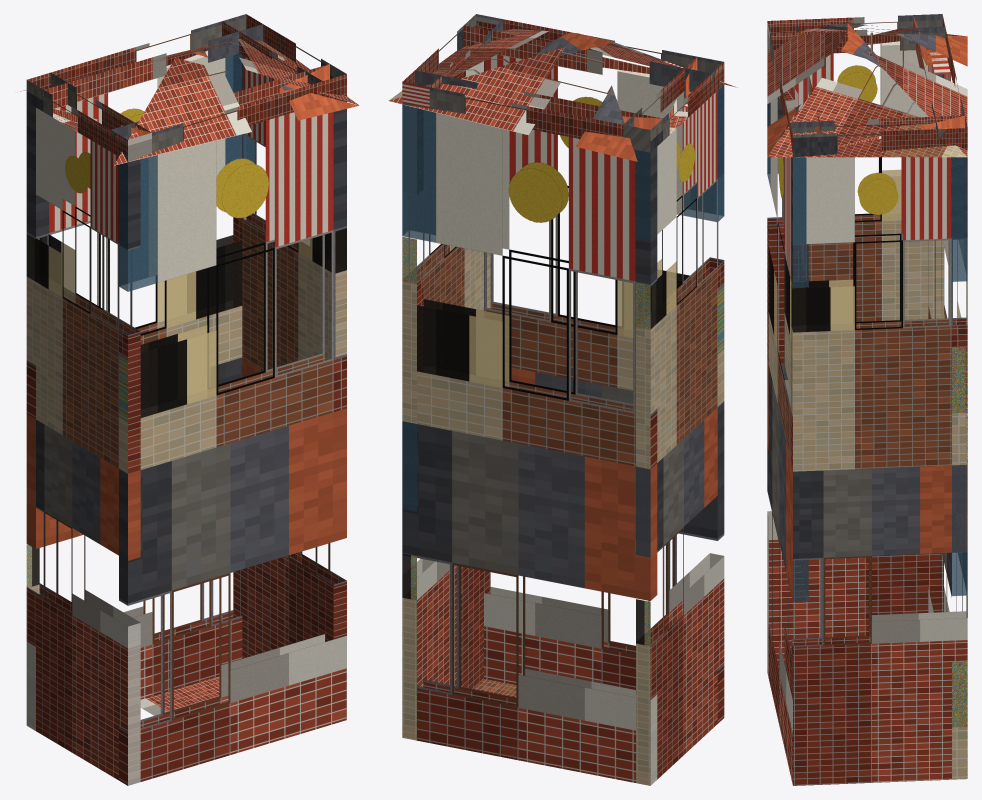
3 renders of one model, left to right at view 1: azimuth 30°, elevation 25°; view 2: azimuth 150°, elevation 25°; view 3: azimuth 270°, elevation 25°, orthographic.
Visible parts, largest first — view 1: 238528921__wall_0_xb, 238528921__wall_3_xb, 238528921__wall_2_xb, 238528921__wall_1_xb, 238528921__wall_0_xf, 238528921_roof_front_xb, 238528921__cornice_2, 238528921__wall_2_xf, 238528921__cornice_0, 238528921__cornice_3, 238528921__wall_3_xf, 238528921_roof_right_xb (+3 smaller); view 2: 238528921__wall_2_xb, 238528921__wall_3_xb, 238528921__wall_0_xb, 238528921__wall_1_xb, 238528921__wall_2_xf, 238528921_roof_back_xb, 238528921__wall_3_xf, 238528921__cornice_0, 238528921__cornice_2, 238528921__wall_1_xf, 238528921__wall_0_xf, 238528921__cornice_3 (+3 smaller); view 3: 238528921__wall_1_xb, 238528921__wall_3_xb, 238528921__wall_0_xb, 238528921__wall_2_xb, 238528921_roof_right_xb, 238528921__wall_2_xf, 238528921__cornice_1, 238528921__wall_1_xf, 238528921_roof_back_xb, 238528921_roof_front_xb, 238528921__cornice_3, 238528921__wall_0_xf (+4 smaller).
Boxes of the visible parts, left/top/right/bottom form: 238528921__wall_0_xb: left=119, top=99, right=346, bottom=785; 238528921__wall_3_xb: left=26, top=108, right=140, bottom=785; 238528921__wall_2_xb: left=26, top=50, right=255, bottom=730; 238528921__wall_1_xb: left=233, top=54, right=346, bottom=658; 238528921__wall_0_xf: left=119, top=155, right=265, bottom=421; 238528921_roof_front_xb: left=114, top=57, right=358, bottom=165; 238528921__cornice_2: left=26, top=14, right=263, bottom=111; 238528921__wall_2_xf: left=158, top=54, right=254, bottom=327; 238528921__cornice_0: left=111, top=64, right=346, bottom=152; 238528921__cornice_3: left=44, top=73, right=151, bottom=161; 238528921__wall_3_xf: left=27, top=234, right=74, bottom=587; 238528921_roof_right_xb: left=160, top=39, right=358, bottom=105; 238528921__wall_2_xb: left=402, top=105, right=657, bottom=785; 238528921__wall_3_xb: left=636, top=85, right=724, bottom=785; 238528921__wall_0_xb: left=484, top=54, right=724, bottom=723; 238528921__wall_1_xb: left=402, top=61, right=490, bottom=740; 238528921__wall_2_xf: left=402, top=108, right=568, bottom=387; 238528921_roof_back_xb: left=389, top=47, right=637, bottom=161; 238528921__wall_3_xf: left=636, top=150, right=676, bottom=645; 238528921__cornice_0: left=463, top=14, right=723, bottom=91; 238528921__cornice_2: left=402, top=70, right=662, bottom=151; 238528921__wall_1_xf: left=402, top=105, right=416, bottom=599; 238528921__wall_0_xf: left=618, top=85, right=723, bottom=353; 238528921__cornice_3: left=623, top=57, right=724, bottom=152; 238528921__wall_1_xb: left=791, top=157, right=967, bottom=785; 238528921__wall_3_xb: left=767, top=41, right=943, bottom=677; 238528921__wall_0_xb: left=767, top=97, right=808, bottom=784; 238528921__wall_2_xb: left=928, top=50, right=967, bottom=779; 238528921_roof_right_xb: left=767, top=23, right=967, bottom=157; 238528921__wall_2_xf: left=942, top=157, right=967, bottom=726; 238528921__cornice_1: left=790, top=115, right=967, bottom=157; 238528921__wall_1_xf: left=792, top=157, right=966, bottom=611; 238528921_roof_back_xb: left=865, top=32, right=967, bottom=156; 238528921_roof_front_xb: left=767, top=31, right=846, bottom=156; 238528921__cornice_3: left=767, top=14, right=945, bottom=53; 238528921__wall_0_xf: left=767, top=103, right=808, bottom=602.
Bounding box in the file's own units: 0.2889 × 0.7607 × 0.2024.
1 material, 1 textured.
